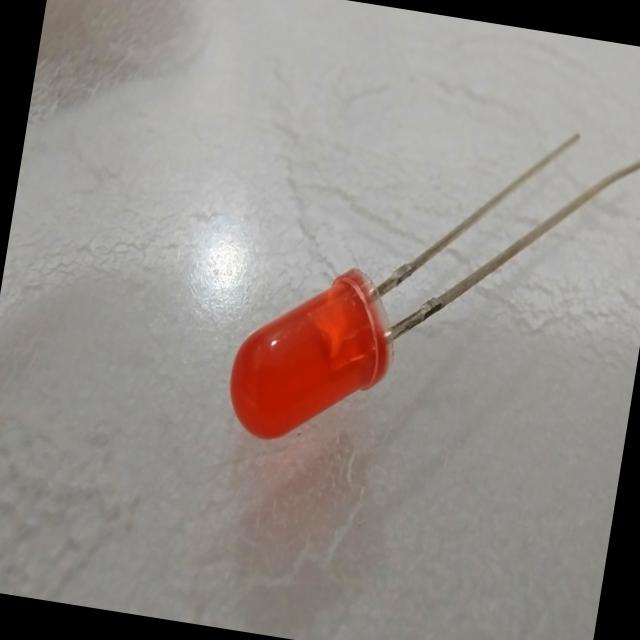red_led: (206, 244, 418, 500)
